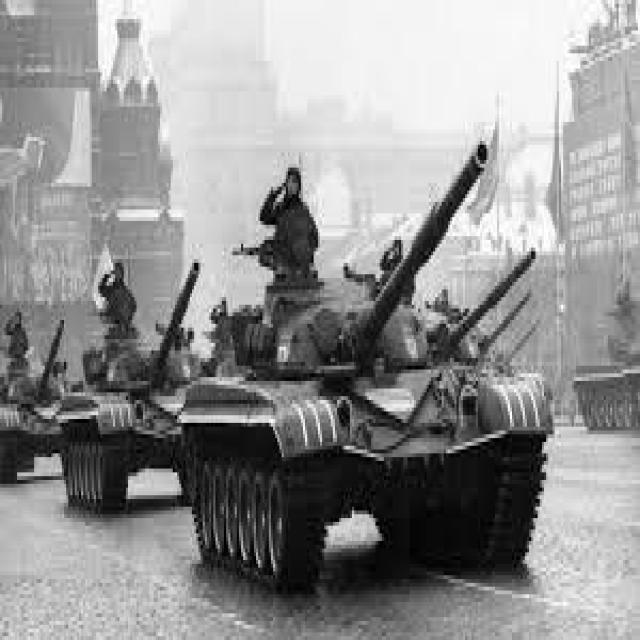Tanks: (186, 116, 568, 634), (75, 215, 209, 566), (2, 185, 83, 585)
